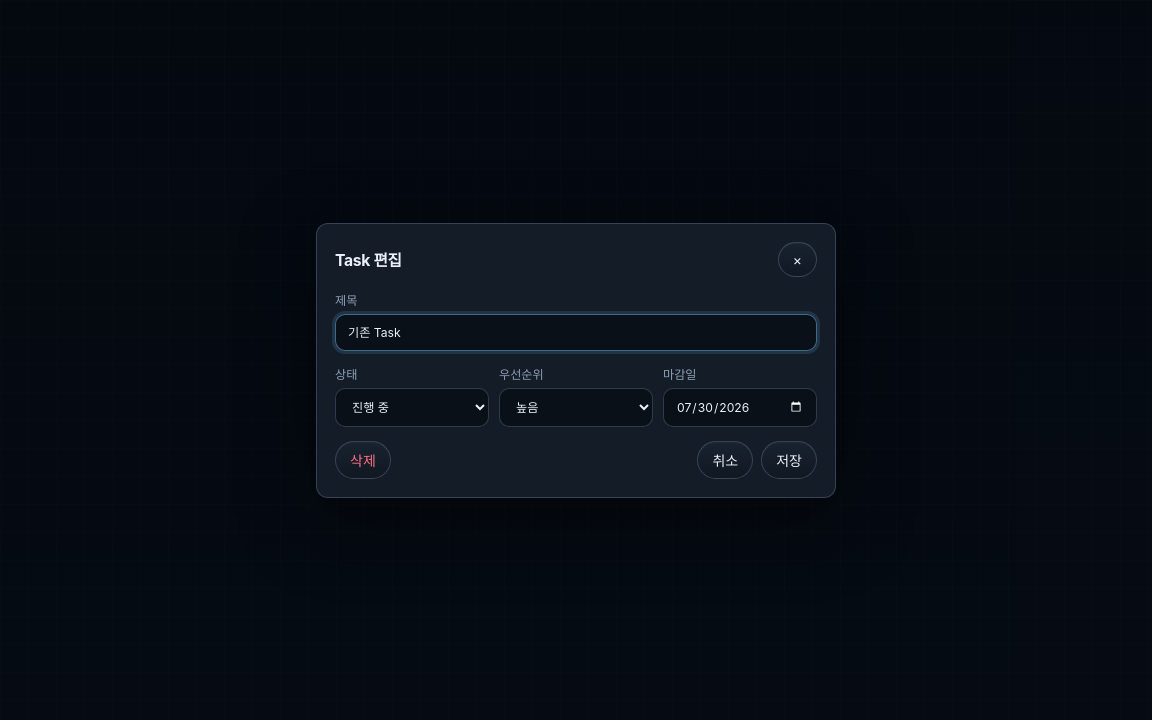
Test: TaskEditorDialog › updates the existing Task and preserves input when persistence fails
Replace the text in the field named "Task 제목" with "수정값 유지". click: (576, 332)
box: [335,314,817,350]
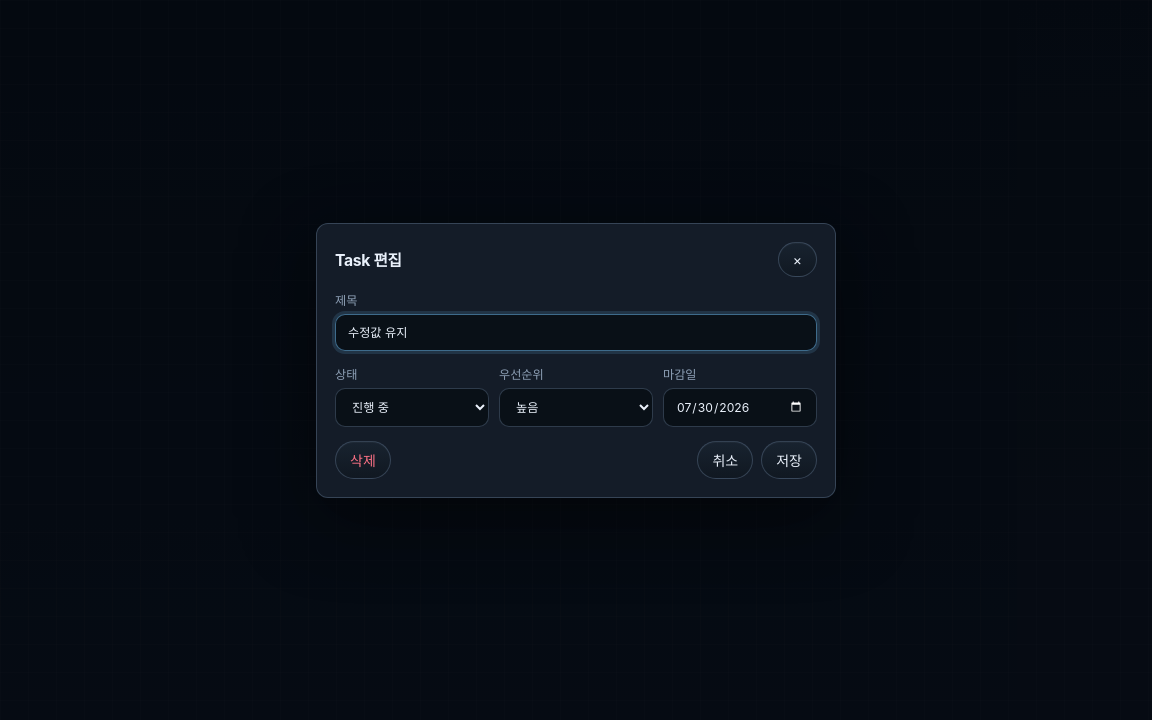
Select "리뷰" in the dropdown named "Task 상태". click: (412, 407)
box: [335,388,489,426]
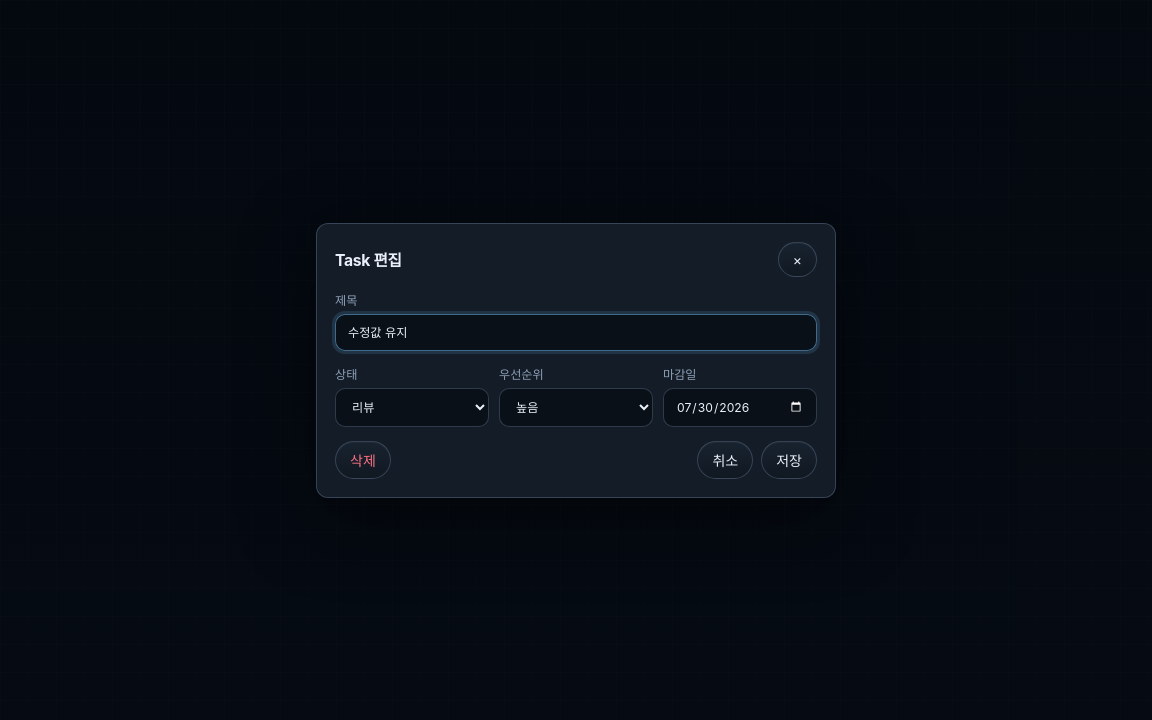
Click the button "저장". click: (789, 460)
box: [761,440,817,478]
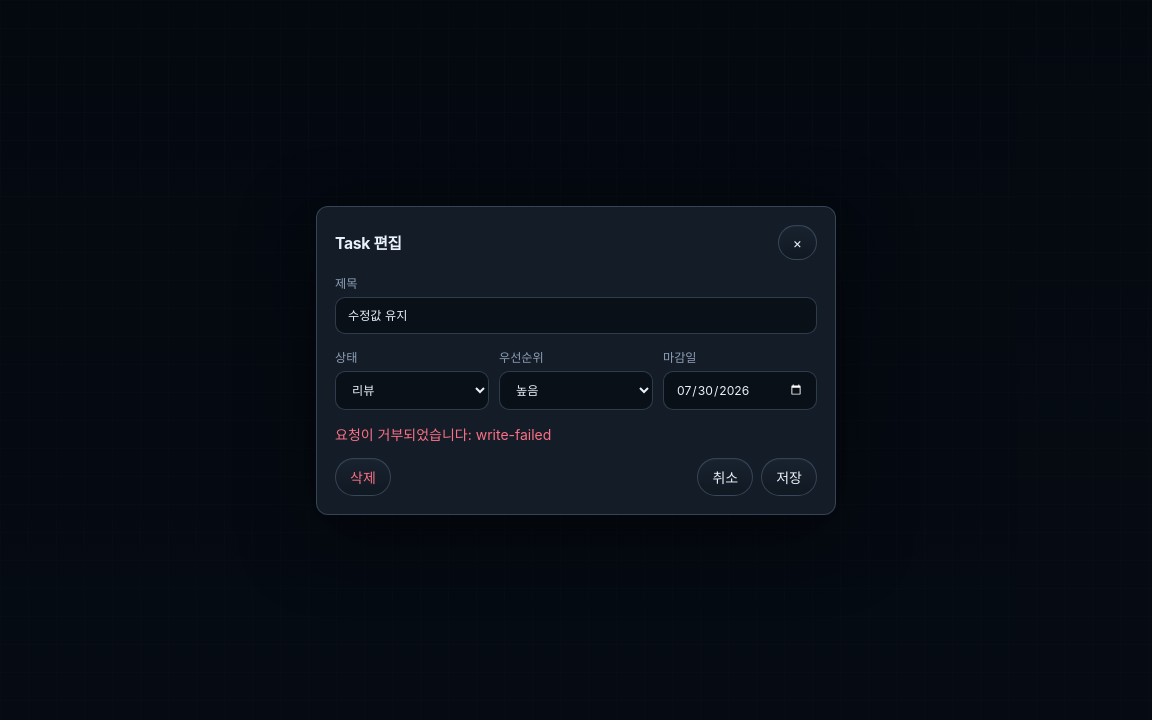
Check: the message shows "write-failed", box [335,426,551,442]
